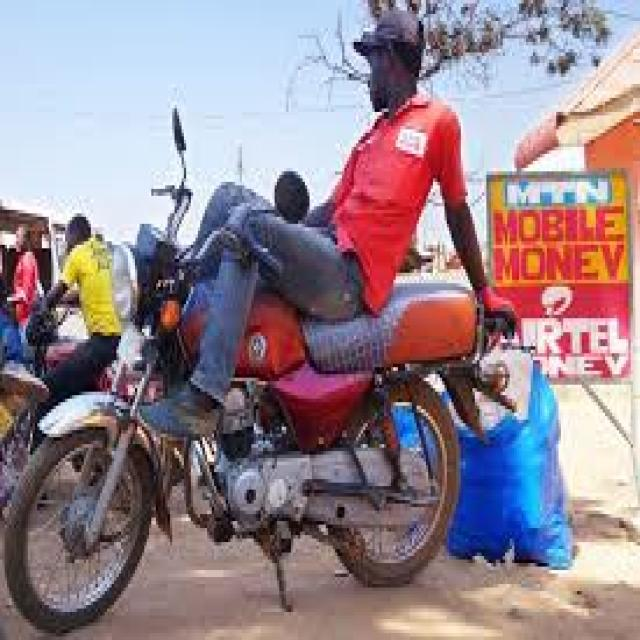bodaboda: (3, 68, 510, 640)
